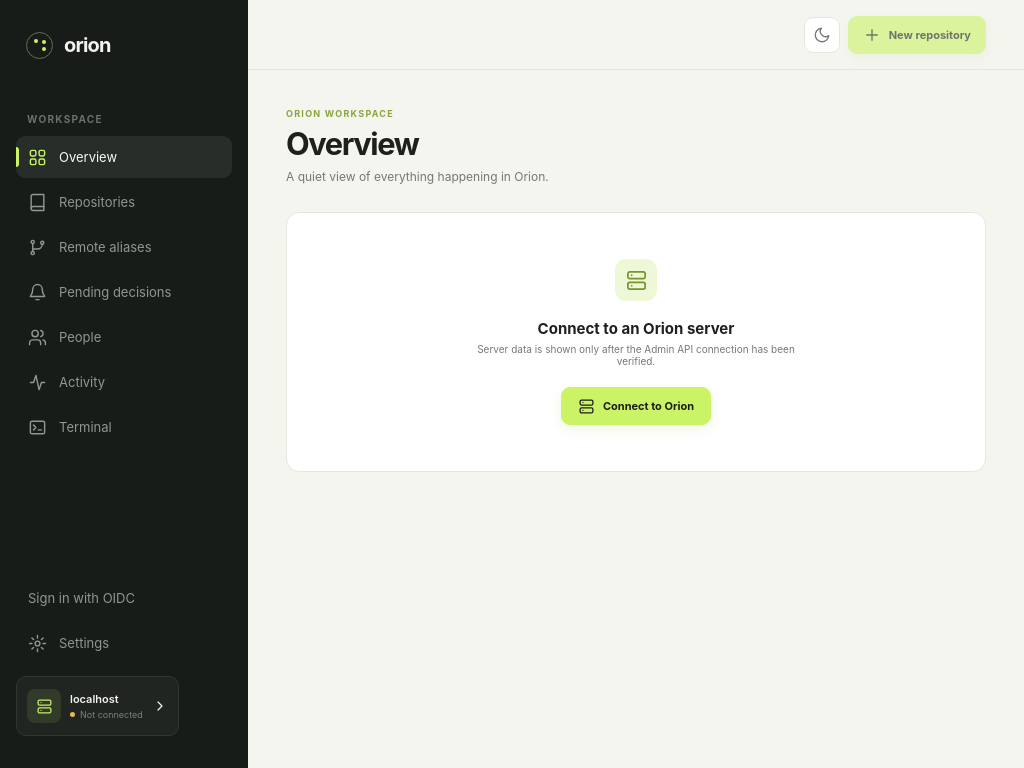
Test: Orion navigation › exposes section URLs as links and marks the current page
This screenshot has width=1024, height=768.
Click the link to "#/repositories": {"x": 82, "y": 202} [28,192,135,212]
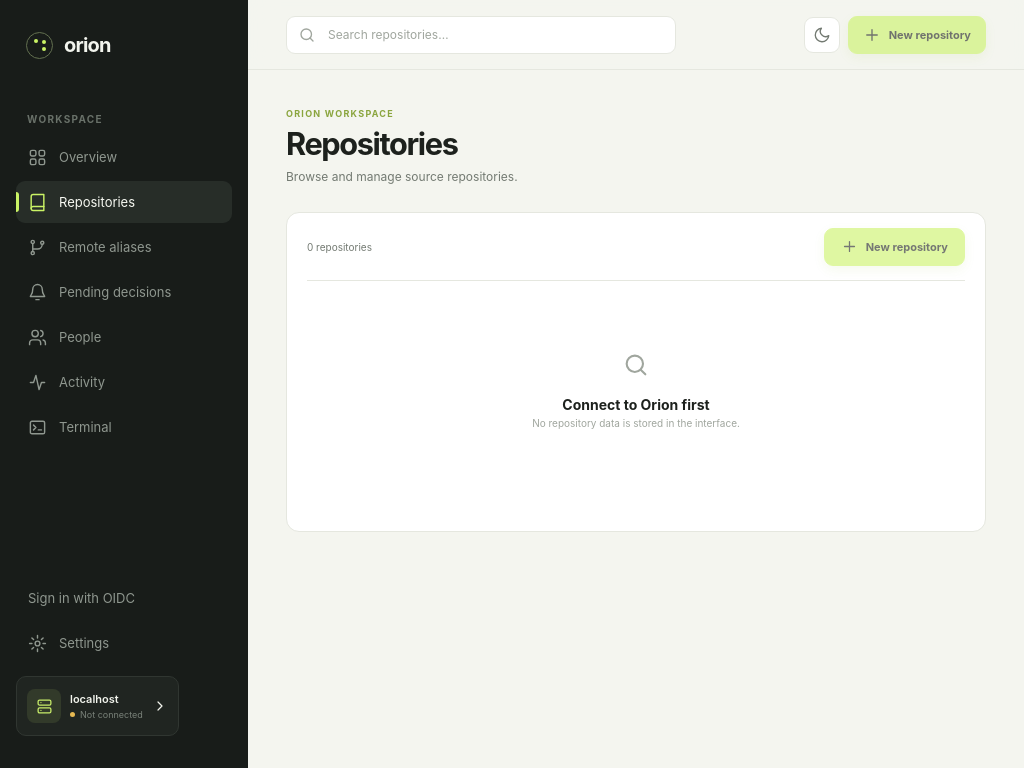
expect the heading "Repositories" is shown: met, box [286,125,458,162]
